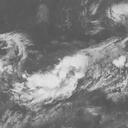cyclone: (32, 58, 87, 98)
